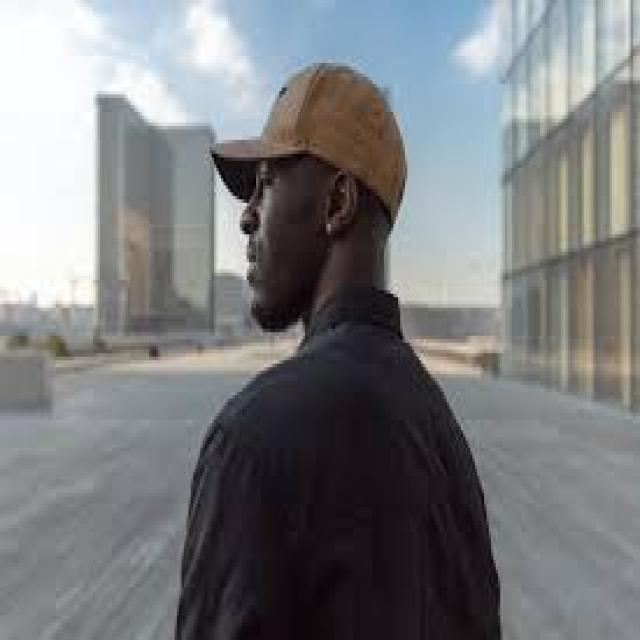cap: (216, 60, 405, 332)
